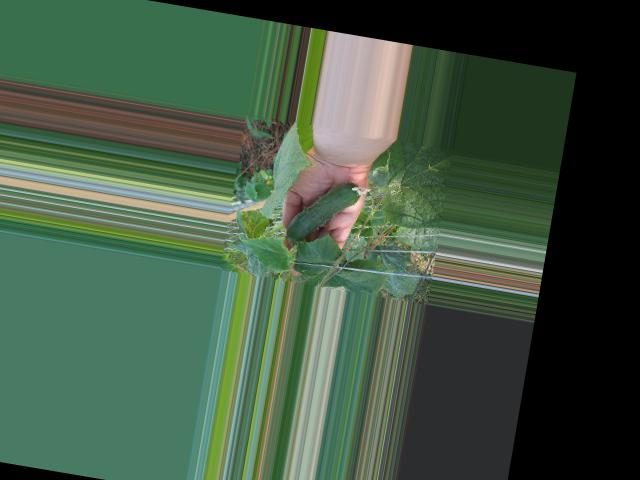cucumber: (286, 173, 372, 252)
